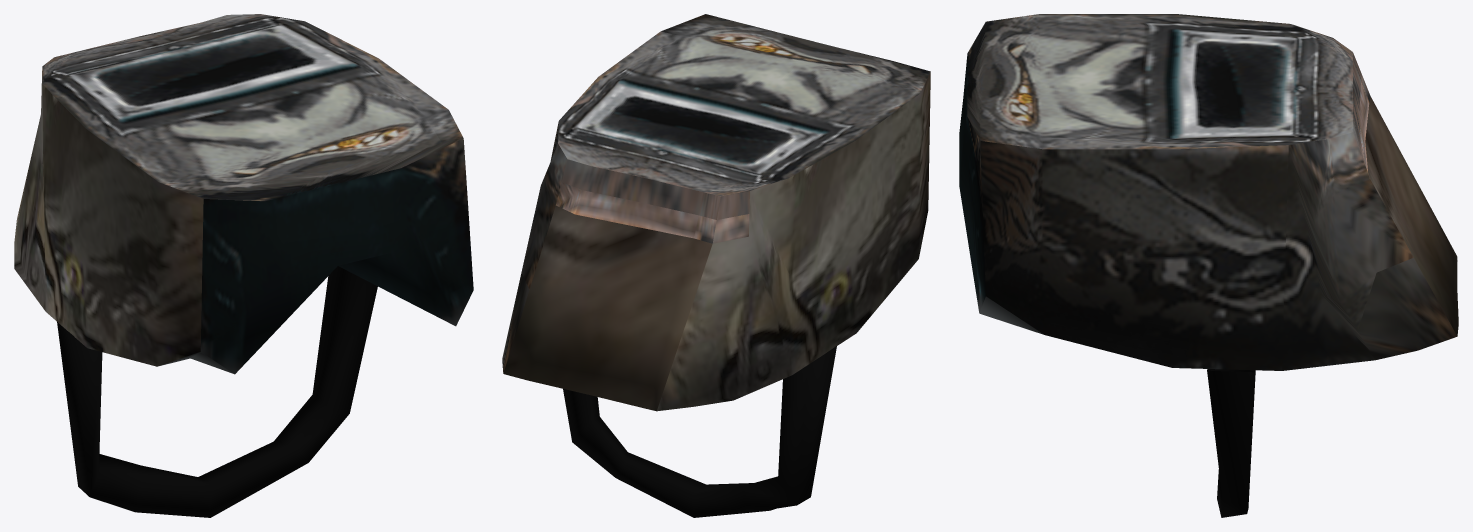
File: WorldItem-TagillaHelmetGorilla.fbx
The picture shows the model from 3 angles, left to right: view 1: azimuth 30°, elevation 25°; view 2: azimuth 150°, elevation 25°; view 3: azimuth 270°, elevation 25°; orthographic projection. The views are drawn at different scales.
Parts seen in each view (by area): view 1: Cube; view 2: Cube; view 3: Cube.
Part boxes in pixels (<box>): Cube: <box>14,14,473,517</box>; Cube: <box>502,14,930,517</box>; Cube: <box>959,14,1458,517</box>.
Bounding box in the file's own units: 0.1386 × 0.1852 × 0.2008.
